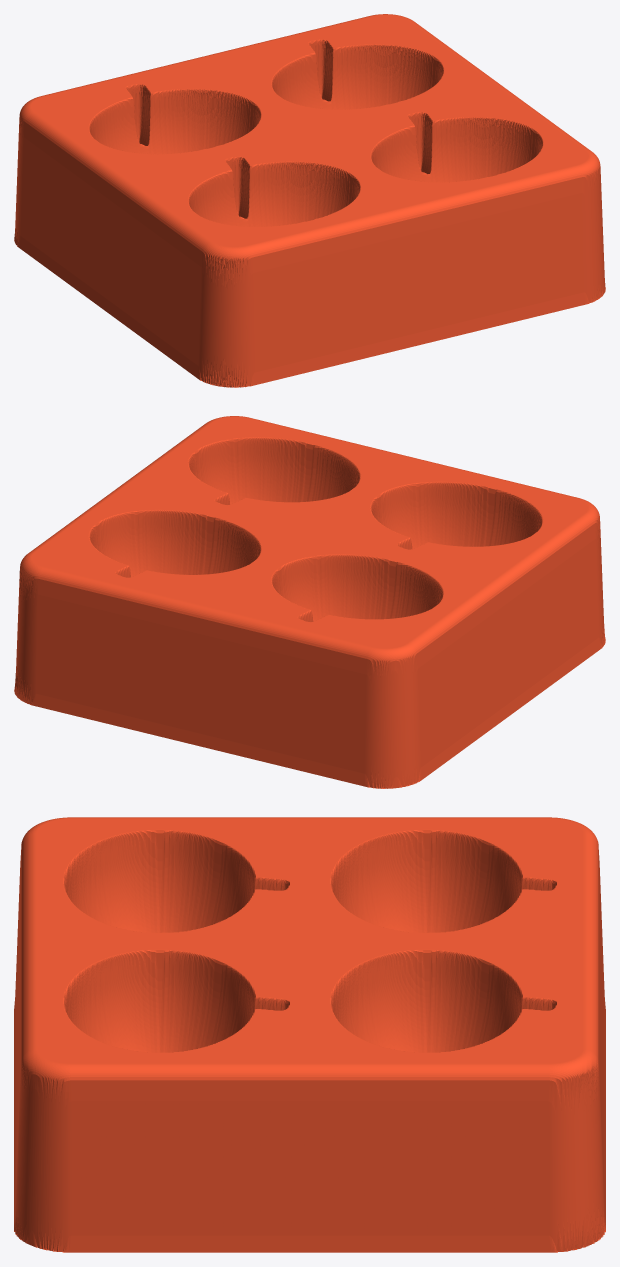
Rendered from mold.glb.
The picture shows the model from 3 angles, top to bottom: view 1: azimuth 30°, elevation 25°; view 2: azimuth 150°, elevation 25°; view 3: azimuth 270°, elevation 25°; orthographic projection. The views are drawn at different scales.
Parts seen in each view (by area): view 1: geometry_0; view 2: geometry_0; view 3: geometry_0.
Part boxes in pixels (box(x1,y1,x2,y2)): geometry_0: box(14, 14, 605, 387); geometry_0: box(14, 416, 605, 788); geometry_0: box(14, 817, 605, 1252).
Size of the model in its own units: 0.0992 by 0.0314 by 0.094.
